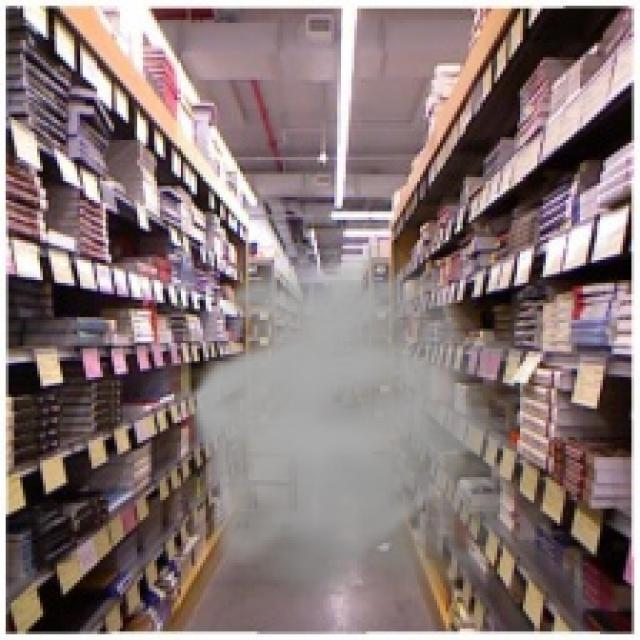Smoke: (185, 240, 578, 614)
